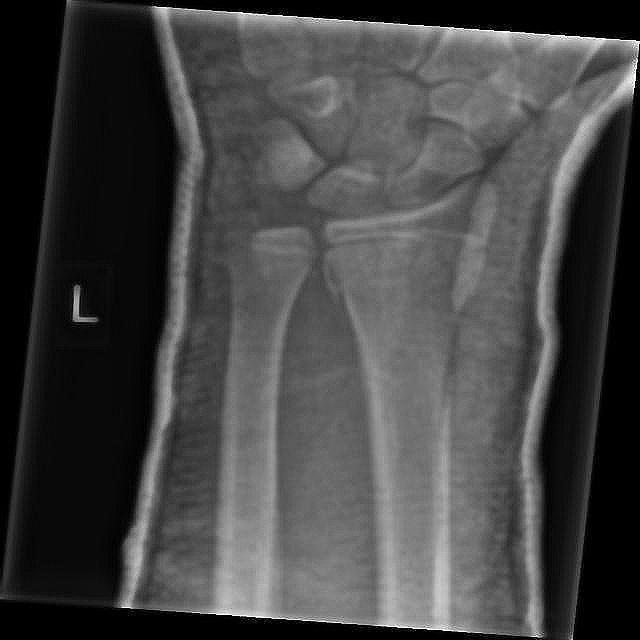bone: (320, 244, 485, 314), (226, 204, 276, 247)
